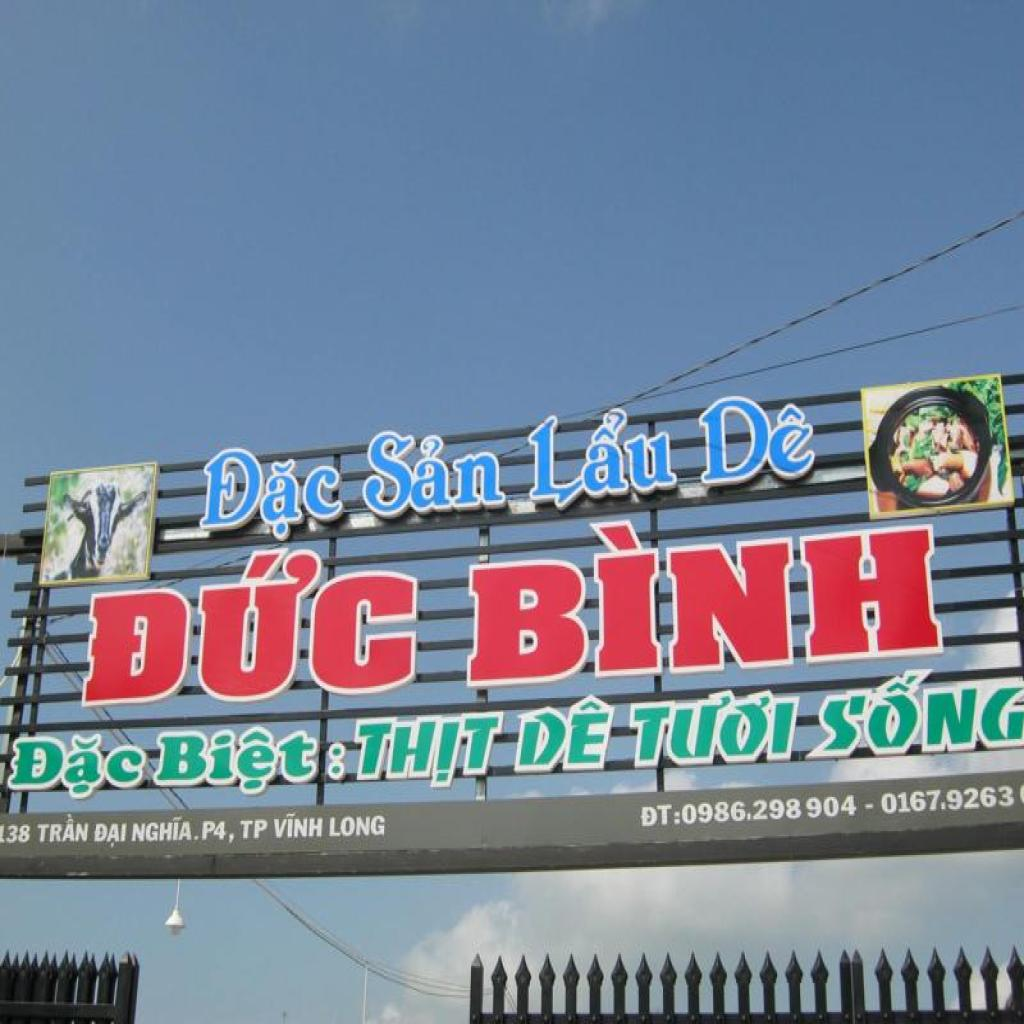text: (462, 492, 950, 696), (76, 536, 424, 720), (801, 655, 1024, 768), (526, 401, 680, 517), (356, 428, 509, 528), (625, 686, 805, 771), (196, 446, 348, 546), (691, 386, 822, 493), (350, 708, 510, 794), (150, 724, 322, 798), (4, 732, 154, 804), (512, 691, 621, 778), (681, 792, 861, 828), (880, 784, 1016, 818), (34, 811, 94, 848), (129, 814, 195, 847), (271, 811, 325, 841), (329, 814, 387, 840), (325, 736, 351, 786), (92, 819, 131, 850), (640, 802, 681, 830), (239, 817, 270, 845), (200, 818, 229, 846), (5, 822, 33, 846), (228, 833, 237, 848), (864, 802, 876, 812)
